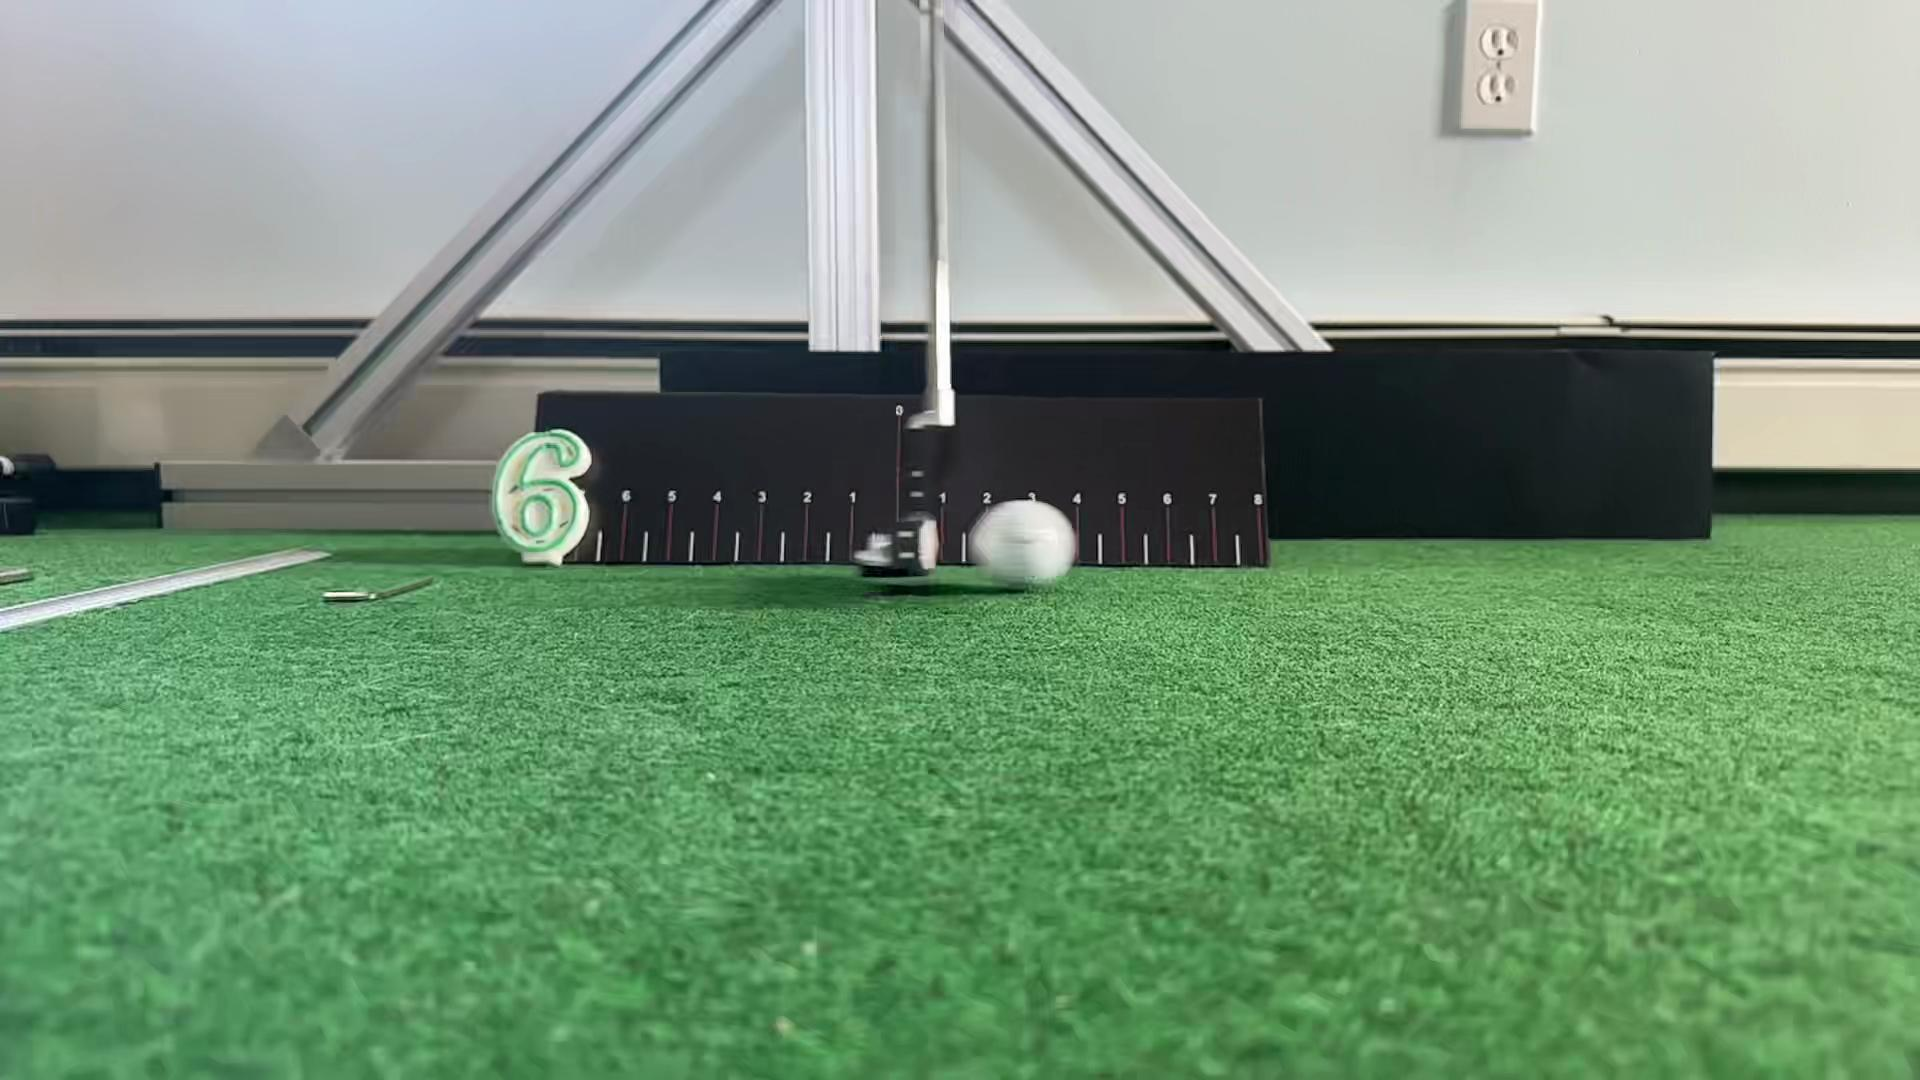golfball: (972, 500, 1077, 586)
